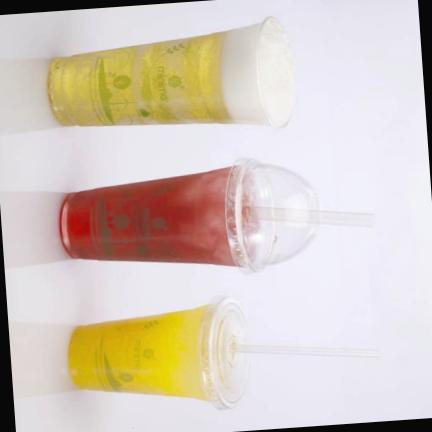container: (59, 158, 371, 273), (47, 16, 292, 128), (67, 297, 247, 409)
fluid: (46, 23, 270, 125), (60, 166, 241, 268), (68, 303, 212, 402)
fluid-surface: (258, 20, 292, 125), (224, 167, 256, 267), (202, 305, 230, 401)
